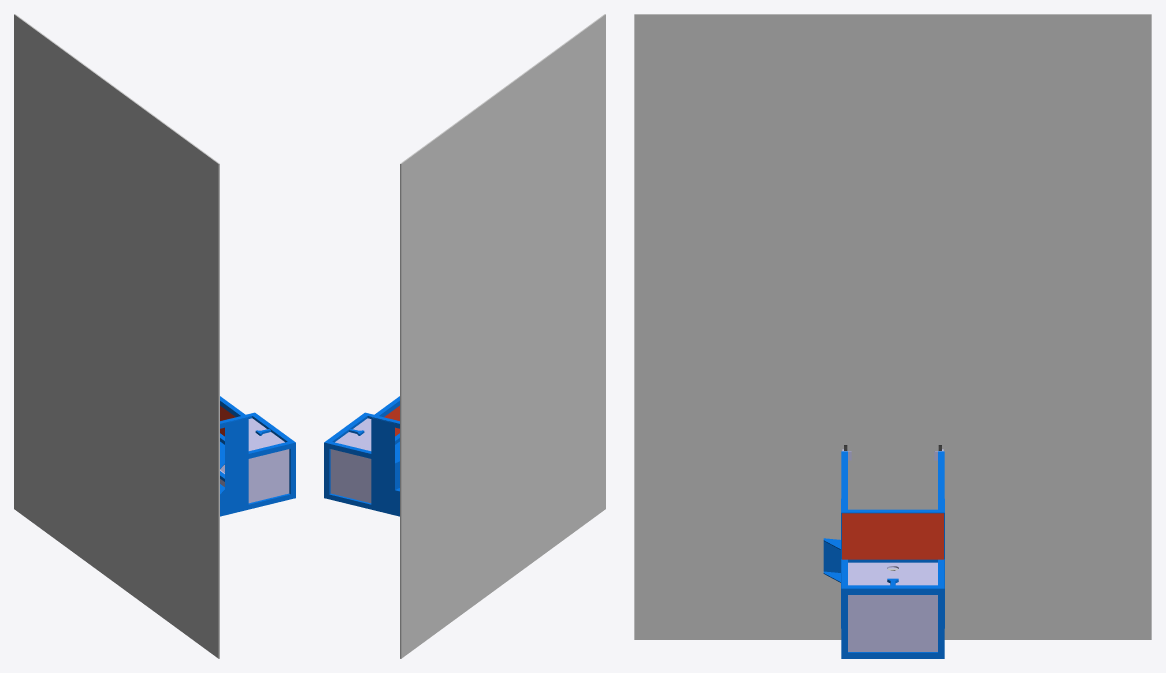
The model's file is Scene_Decarottage_GLB.gltf.
3 renders of one model, left to right at view 1: azimuth 30°, elevation 25°; view 2: azimuth 150°, elevation 25°; view 3: azimuth 270°, elevation 25°, orthographic. The views are drawn at different scales.
Parts seen in each view (by area): view 1: plan-post1, support_decrottage001, Plaque_Lateral_decarotage, Plaque_Frontale; view 2: plan-post1, support_decrottage001, Plaque_Lateral_decarotage001, Plaque_Frontale; view 3: plan-post1, support_decrottage001, Plaque_haut_decarottage, Plaque_Frontale.
Part boxes in pixels (x1,y1,x2,y2): plan-post1: (14,14,219,658); support_decrottage001: (220,396,295,516); Plaque_Lateral_decarotage: (248,449,289,503); Plaque_Frontale: (248,418,284,450); plan-post1: (400,14,605,658); support_decrottage001: (324,396,399,516); Plaque_Lateral_decarotage001: (330,449,371,503); Plaque_Frontale: (335,418,371,450); plan-post1: (634,14,1151,639); support_decrottage001: (823,451,944,658); Plaque_haut_decarottage: (848,595,937,651); Plaque_Frontale: (848,562,937,585).
Size of the model in its own units: 1.35 by 4 by 3.
